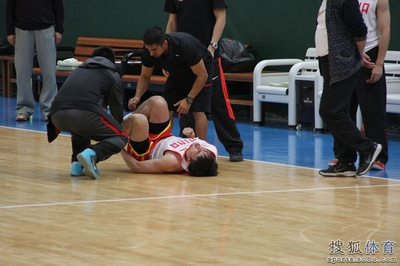falling: (118, 93, 222, 179)
